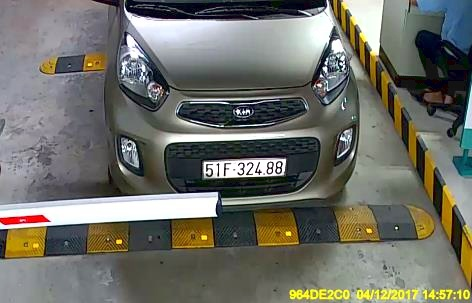plate: (201, 153, 286, 180)
